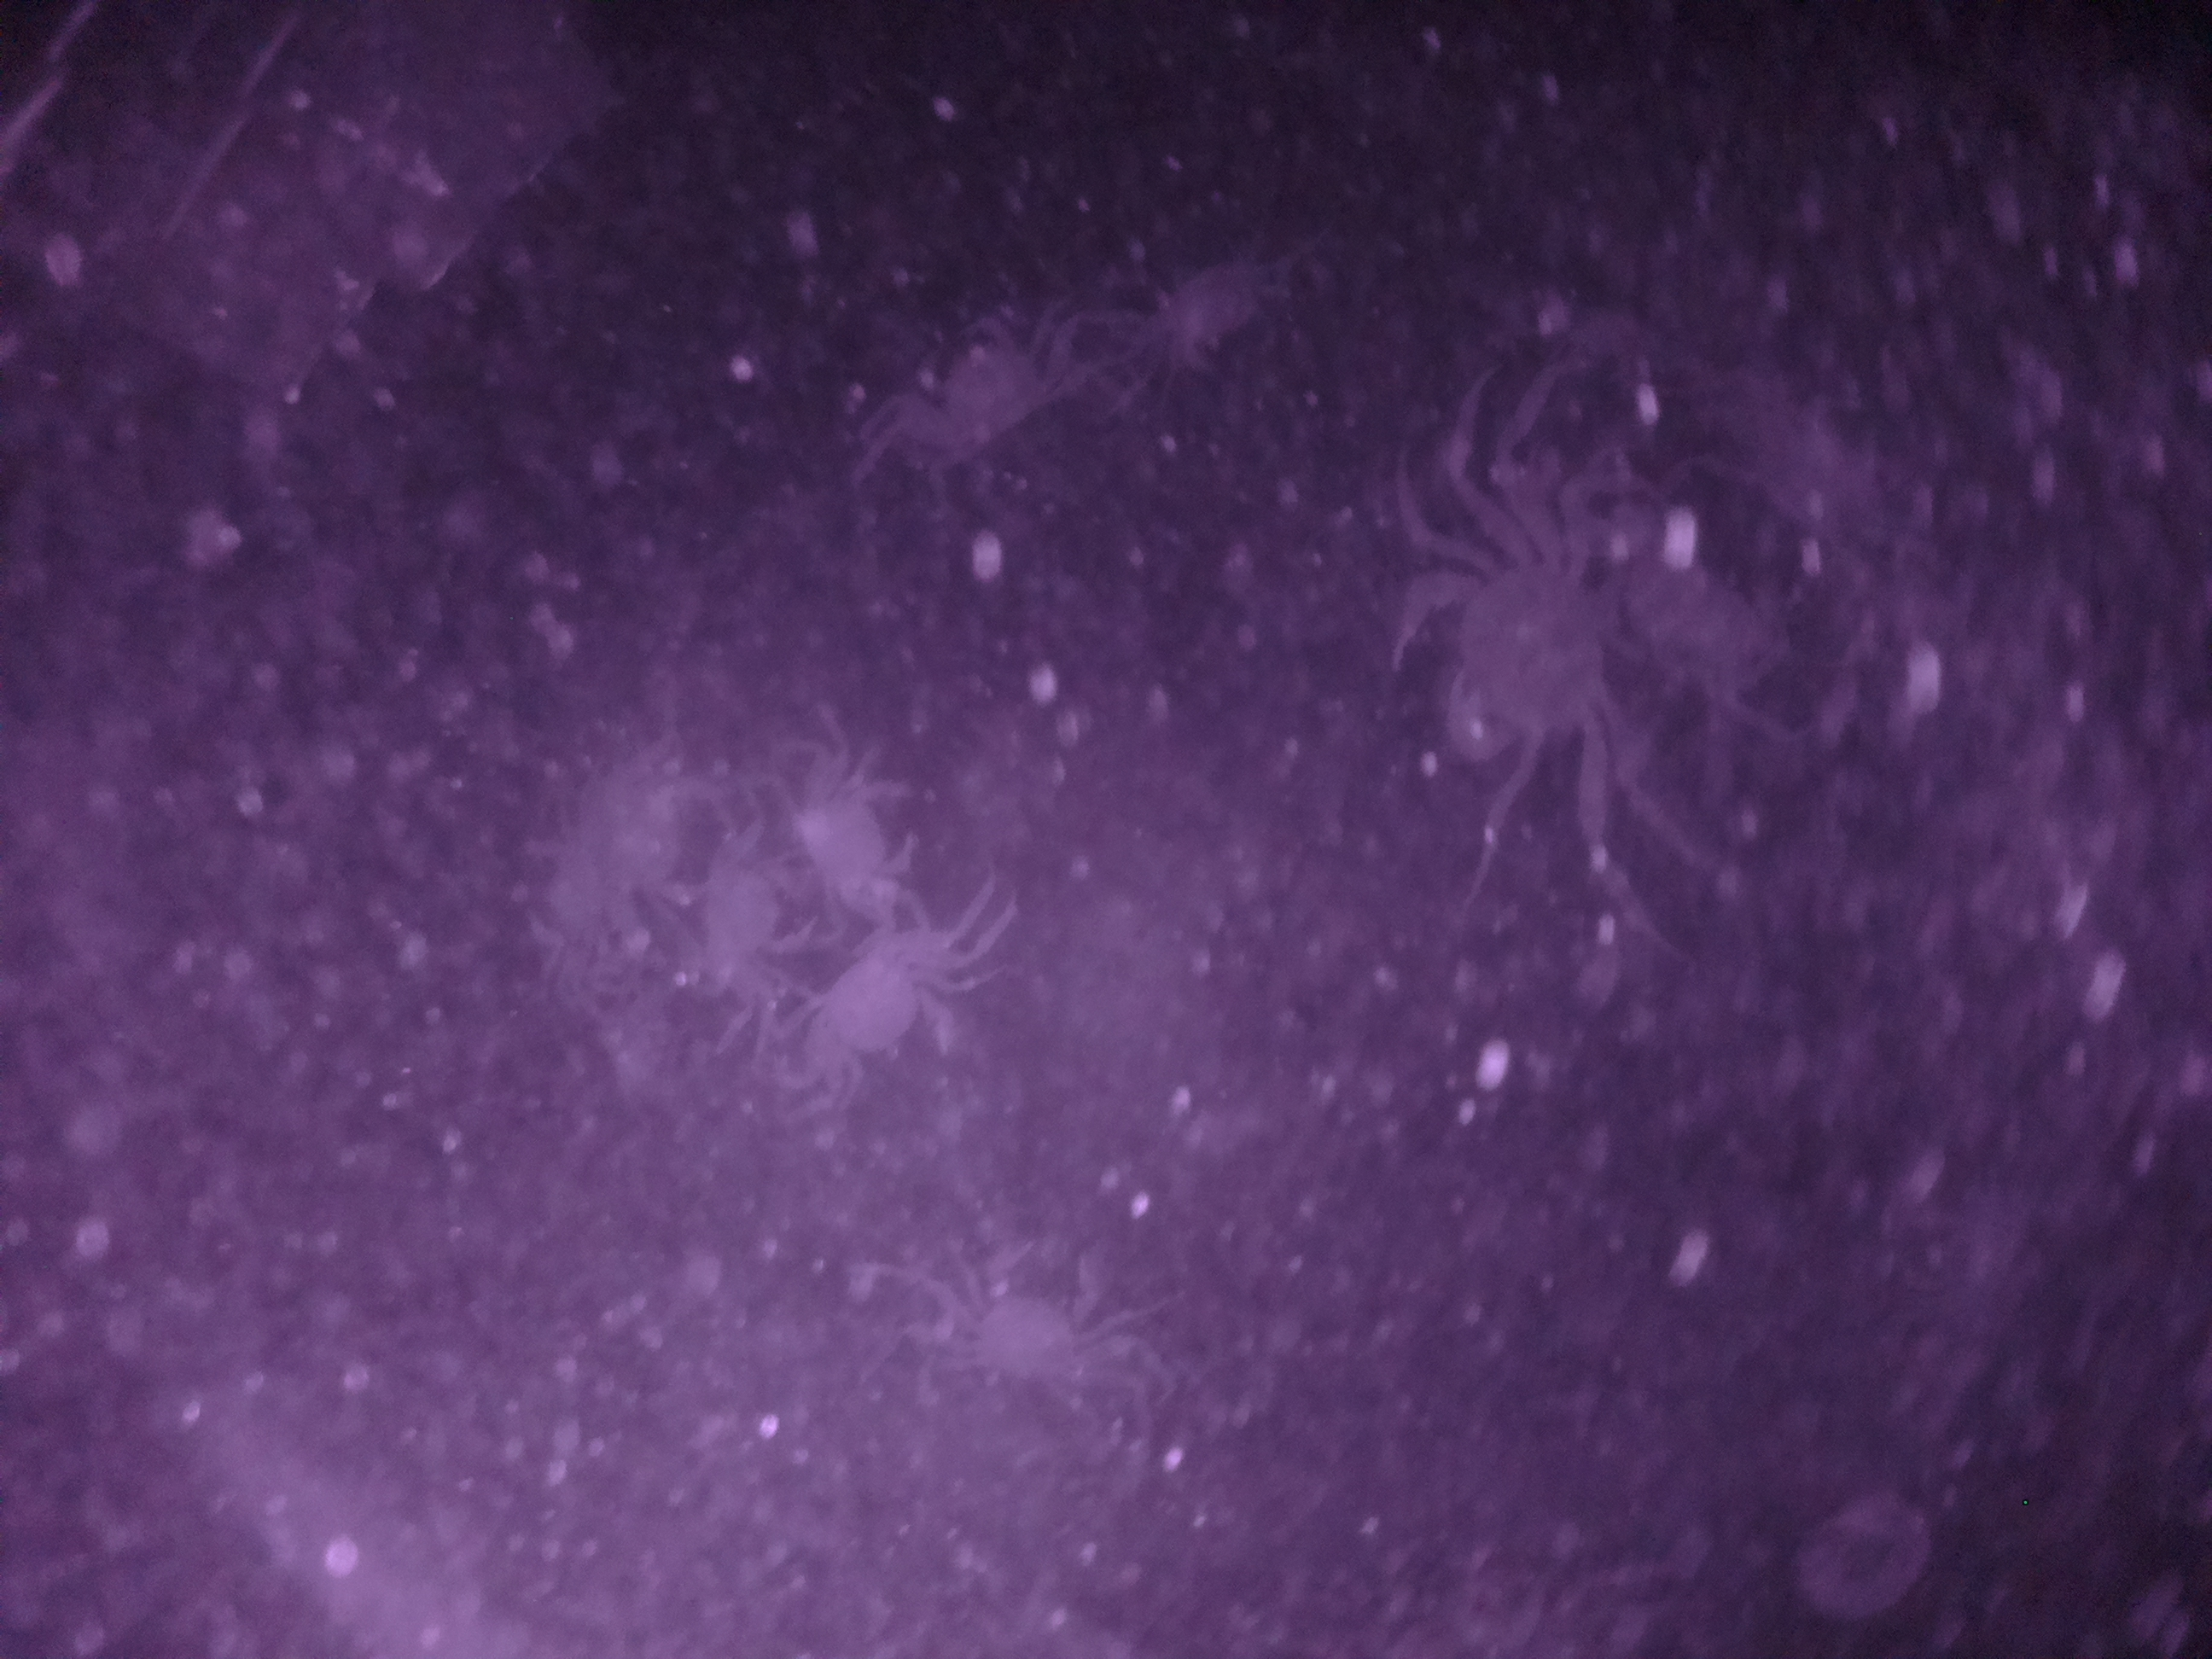Crab: (1362, 507, 1655, 810), (761, 871, 1007, 1126)
